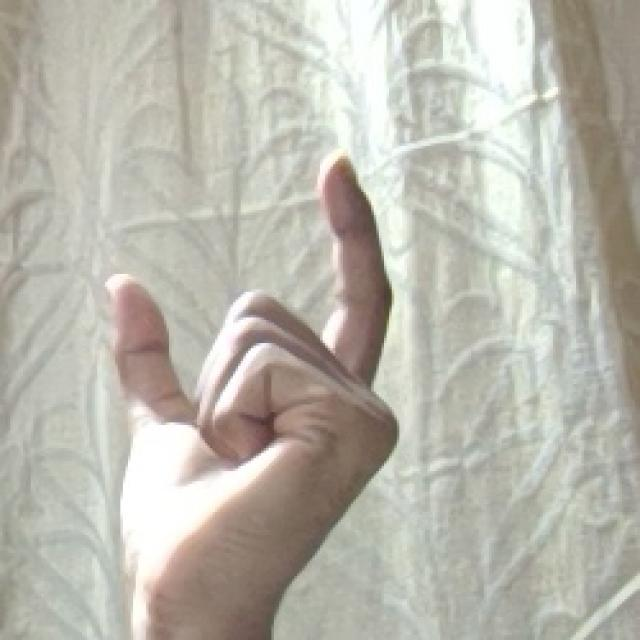Alphabet-U: (88, 135, 410, 612)
